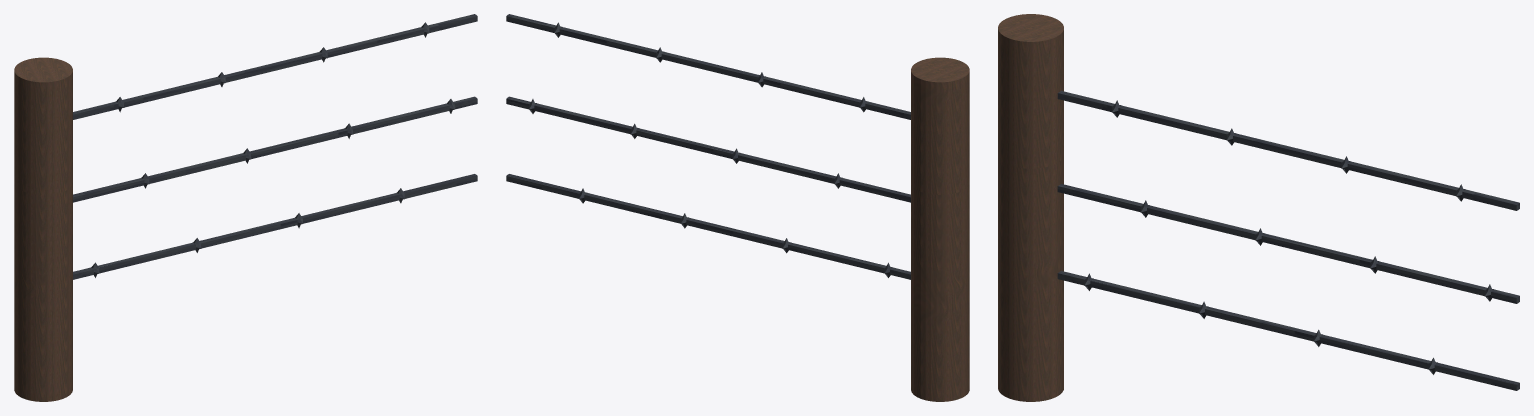
The model's file is barbed_barrier_z.fbx.
3 renders of one model, left to right at view 1: azimuth 30°, elevation 25°; view 2: azimuth 150°, elevation 25°; view 3: azimuth 330°, elevation 25°, orthographic. The views are drawn at different scales.
Parts seen in each view (by area): view 1: Cylinder; view 2: Cylinder; view 3: Cylinder.
Part boxes in pixels (box(x1,y1,x2,y2)): Cylinder: box(14, 14, 477, 401); Cylinder: box(506, 14, 969, 401); Cylinder: box(998, 14, 1519, 401).
Bounding box in the file's own units: 9 × 6 × 1.
Materials: 1 (1 with a texture image).
